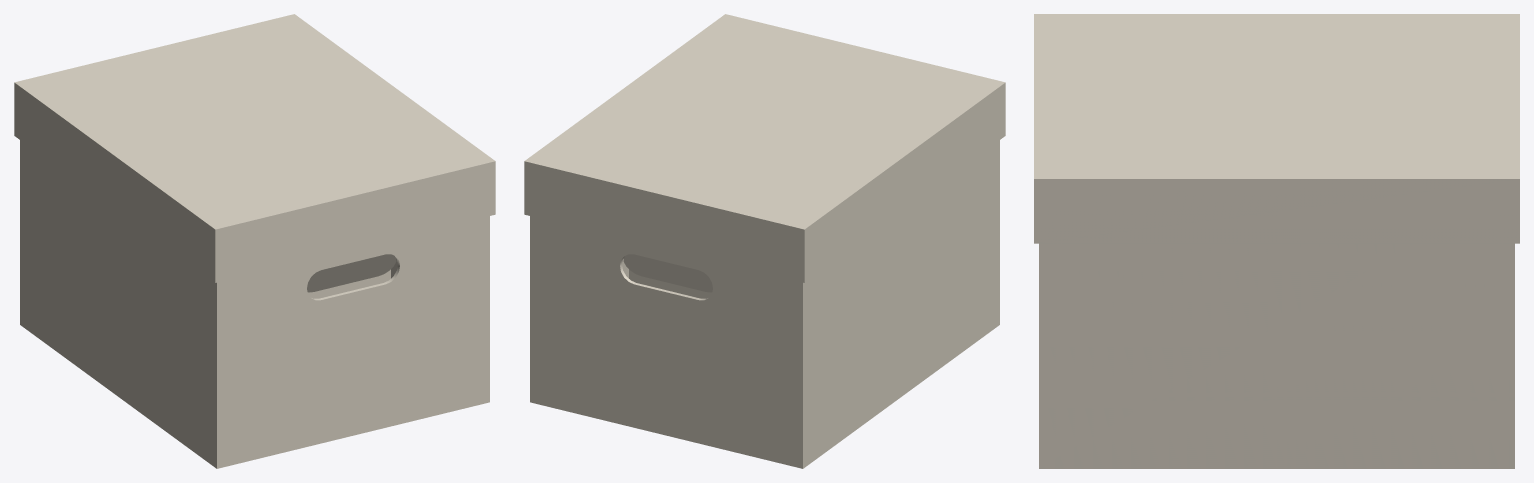
The model's file is Kit_RecordsCarton.fbx.
The picture shows the model from 3 angles, left to right: view 1: azimuth 30°, elevation 25°; view 2: azimuth 150°, elevation 25°; view 3: azimuth 270°, elevation 25°; orthographic projection. The views are drawn at different scales.
Parts seen in each view (by area): view 1: Kit_RecordsCarton_LOD0; view 2: Kit_RecordsCarton_LOD0; view 3: Kit_RecordsCarton_LOD0.
Part boxes in pixels (x1,y1,x2,y2): Kit_RecordsCarton_LOD0: (14,14,495,468); Kit_RecordsCarton_LOD0: (524,14,1005,468); Kit_RecordsCarton_LOD0: (1034,14,1519,468).
Size of what is drawn, in the model's own units: 0.313 by 0.258 by 0.389.
